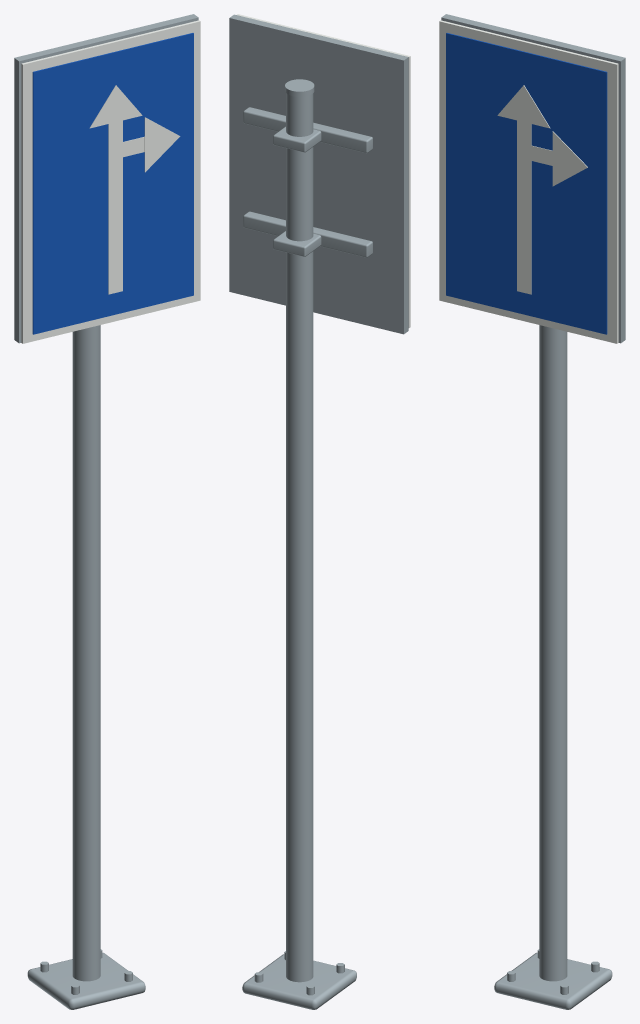
Rendered from DS_Sign_LaneDir1_SR.fbx.
3 views of the same model, side by side, from view 1: azimuth 30°, elevation 25°; view 2: azimuth 150°, elevation 25°; view 3: azimuth 330°, elevation 25° (orthographic). The views are drawn at different scales.
Parts seen in each view (by area): view 1: Face_Field.023, Post.030, Face_Border.023, Plate_Back.038, BasePlate.030, LaneStem0.005, ArrowHead.010, ArrowHead.009, LaneStraight0.003, LaneRight1.002; view 2: Plate_Back.038, Post.030, BasePlate.030, RearRail.064, RearRail.063, Face_Border.023, PostClamp.060, PostClamp.059, PostCap.030; view 3: Face_Field.023, Post.030, Face_Border.023, Plate_Back.038, BasePlate.030, LaneStem0.005, ArrowHead.010, ArrowHead.009, LaneStraight0.003, LaneRight1.002.
Boxes of the visible parts, x1,y1,x2,y2 form: Face_Field.023: [32, 33, 193, 334]; Post.030: [72, 325, 100, 981]; Face_Border.023: [21, 20, 200, 343]; Plate_Back.038: [14, 14, 198, 343]; BasePlate.030: [27, 952, 145, 1009]; LaneStem0.005: [108, 176, 122, 294]; ArrowHead.010: [144, 117, 180, 172]; ArrowHead.009: [89, 85, 142, 128]; LaneStraight0.003: [108, 120, 122, 179]; LaneRight1.002: [115, 136, 144, 158]; Plate_Back.038: [229, 14, 408, 334]; Post.030: [286, 93, 313, 982]; BasePlate.030: [242, 954, 356, 1009]; RearRail.064: [243, 107, 372, 153]; RearRail.063: [243, 211, 372, 257]; Face_Border.023: [237, 14, 410, 327]; PostClamp.060: [273, 126, 321, 152]; PostClamp.059: [273, 231, 321, 256]; PostCap.030: [285, 79, 314, 96]; Face_Field.023: [446, 33, 607, 334]; Post.030: [539, 325, 567, 981]; Face_Border.023: [439, 20, 618, 343]; Plate_Back.038: [441, 14, 625, 343]; BasePlate.030: [494, 952, 612, 1009]; LaneStem0.005: [517, 176, 531, 294]; ArrowHead.010: [552, 131, 587, 186]; ArrowHead.009: [497, 85, 550, 128]; LaneStraight0.003: [517, 120, 531, 179]; LaneRight1.002: [524, 144, 552, 165].
Size of the model in its own units: 56 by 287 by 28.
